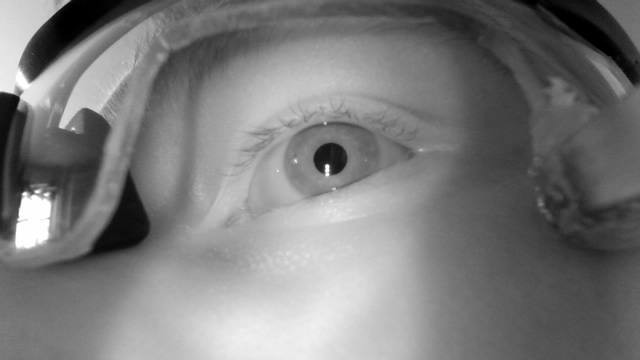pupil: (312, 142, 349, 176)
